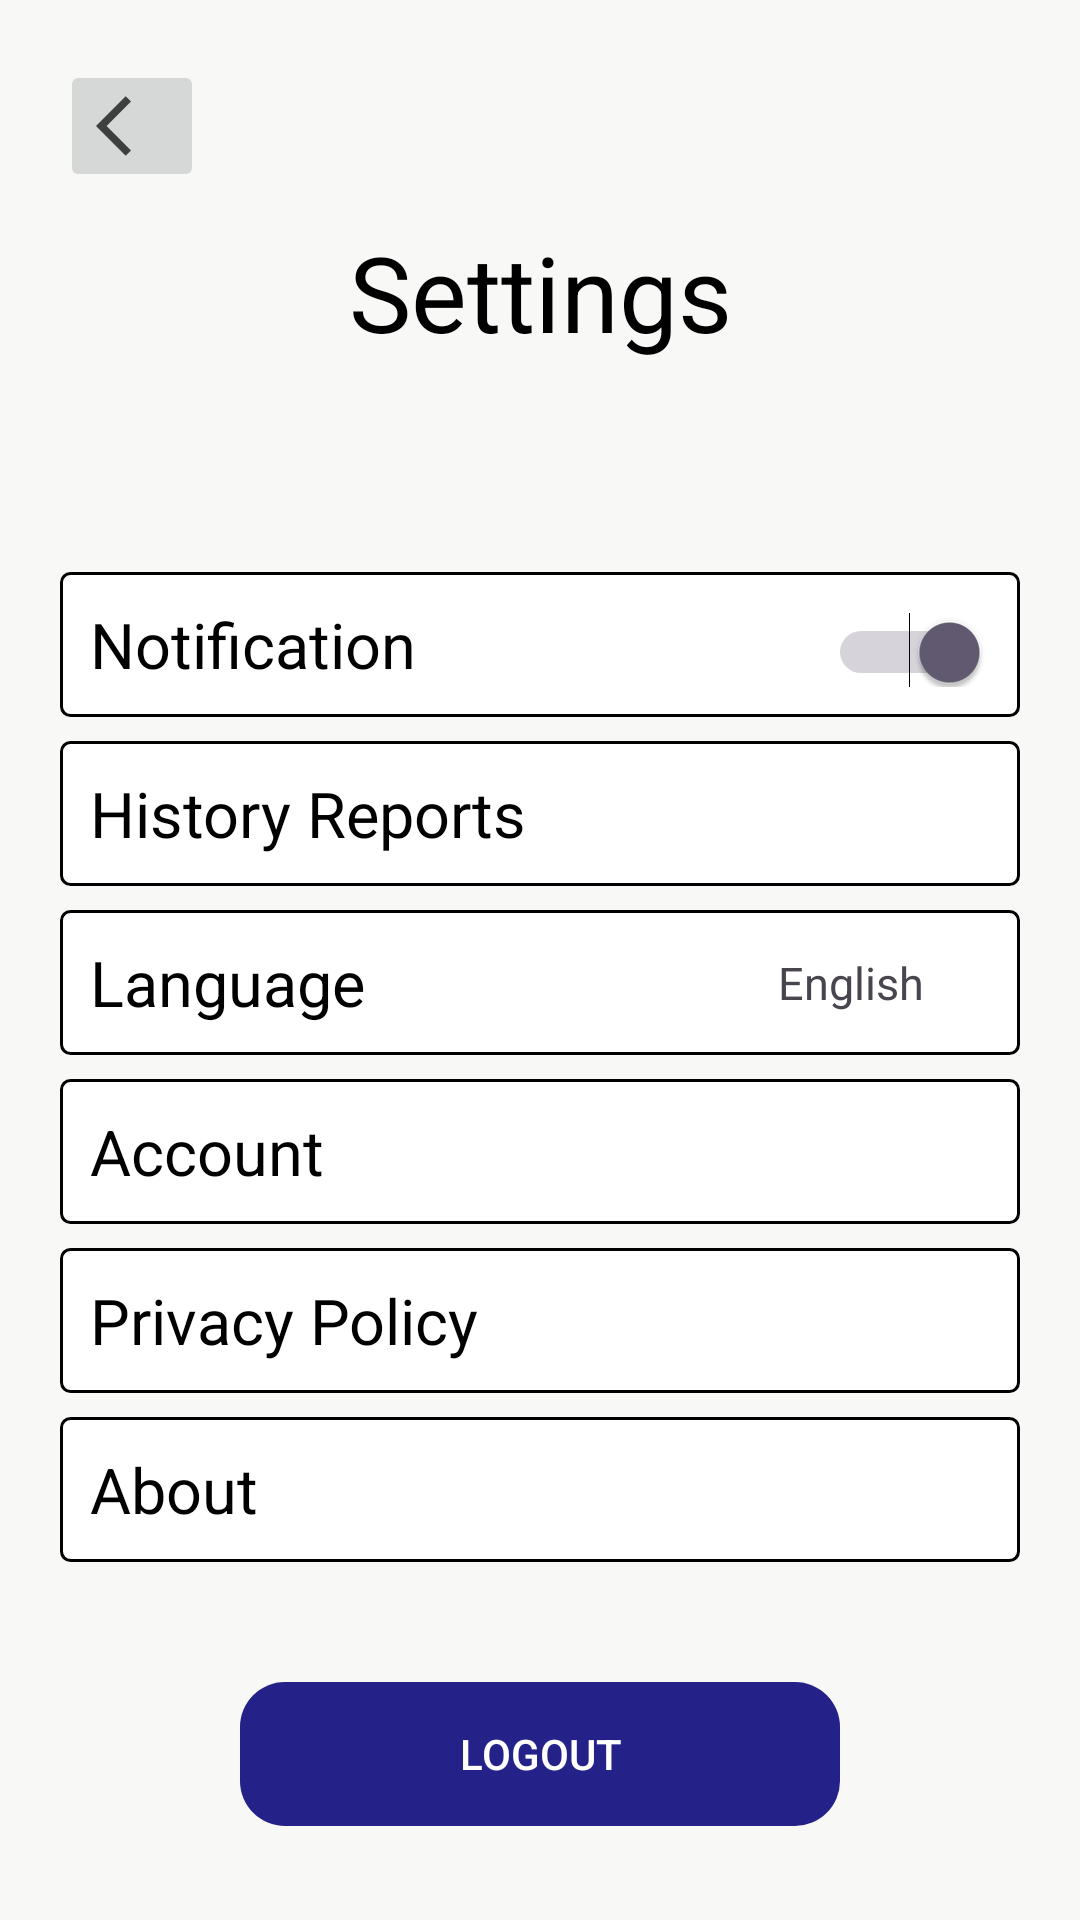

Locate icon controls on the screen. Image size 1080 x 1920, boxes as [x1,y1,x2,y2].
back: [72,78,192,174]
